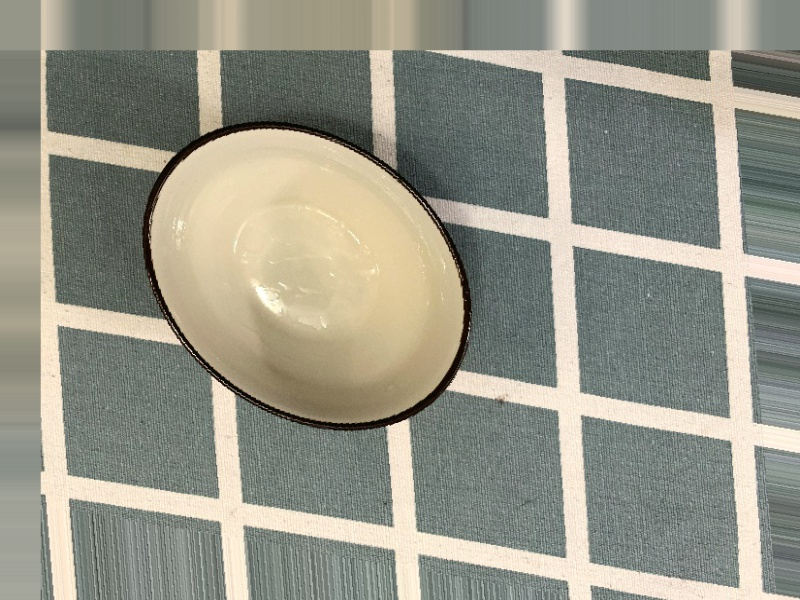bowl_small: (120, 84, 495, 465)
